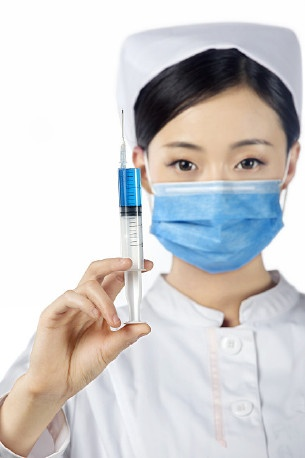Mask: (151, 135, 290, 274)
